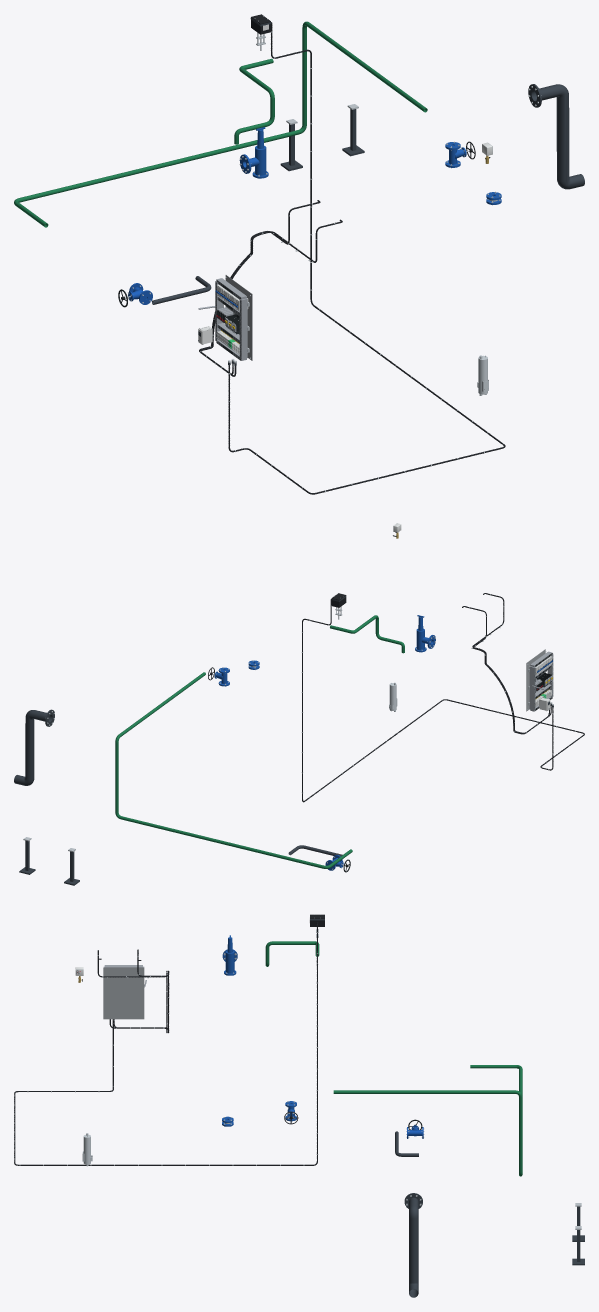
3 renders of one model, top to bottom at view 1: azimuth 30°, elevation 25°; view 2: azimuth 150°, elevation 25°; view 3: azimuth 270°, elevation 25°, orthographic. The views are drawn at different scales.
Visible parts, largest first — view 1: to_economizer / green, cabinet_interior / cabinet_interior_0.npz, bdv_water_drain / dark, mod_direct_drive_cable / black, trap_support / dark, safety_1 / blue, direct_inlet / green; view 2: to_economizer / green, cabinet_interior / cabinet_interior_0.npz, bdv_water_drain / dark, mod_direct_drive_cable / black; view 3: cabinet_interior / cabinet_interior_0.npz, to_economizer / green, mod_direct_drive_cable / black, bdv_water_drain / dark.
Boxes of the visible parts, x1,y1,x2,y2 form: to_economizer / green: (14, 21, 427, 227); cabinet_interior / cabinet_interior_0.npz: (198, 275, 252, 360); bdv_water_drain / dark: (528, 84, 584, 189); mod_direct_drive_cable / black: (228, 22, 505, 494); trap_support / dark: (280, 109, 364, 171); safety_1 / blue: (239, 127, 268, 178); direct_inlet / green: (234, 64, 274, 144); to_economizer / green: (115, 672, 352, 868); cabinet_interior / cabinet_interior_0.npz: (526, 649, 553, 711); bdv_water_drain / dark: (14, 709, 54, 785); mod_direct_drive_cable / black: (302, 599, 584, 802); cabinet_interior / cabinet_interior_0.npz: (103, 965, 146, 1019); to_economizer / green: (333, 1065, 522, 1176); mod_direct_drive_cable / black: (14, 923, 317, 1165); bdv_water_drain / dark: (404, 1193, 422, 1297).
Bounding box in the file's own units: 5.91 × 3.24 × 6.75.
